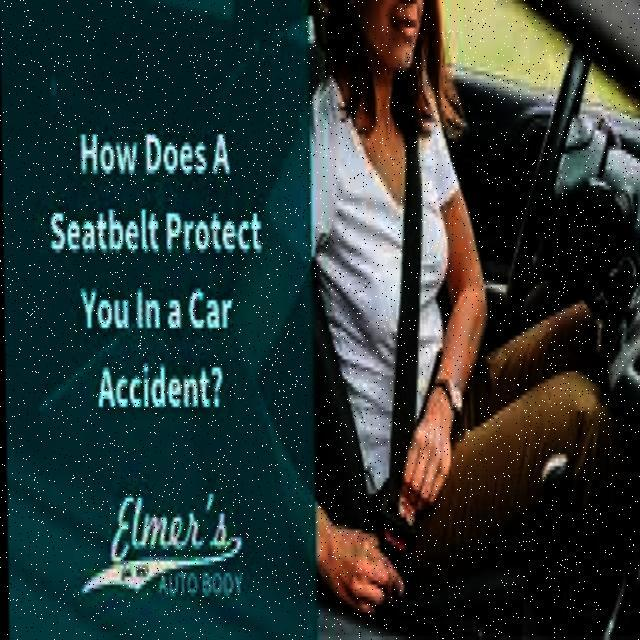seatbelt: (332, 66, 454, 554)
